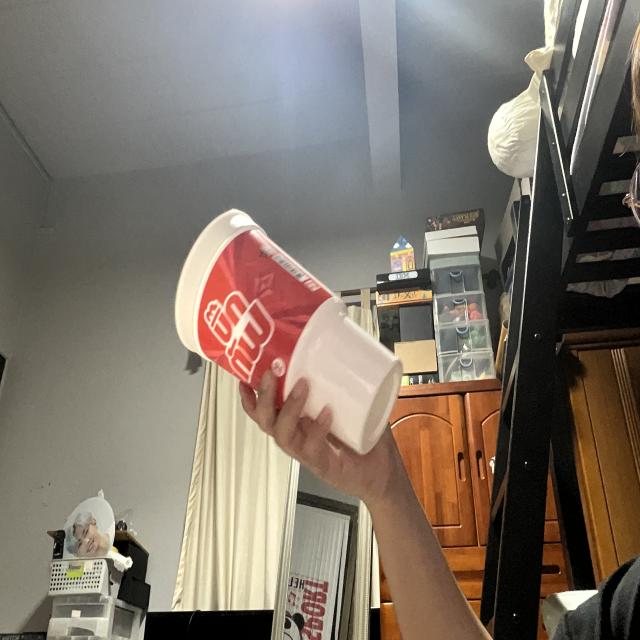cup: (174, 210, 403, 457)
